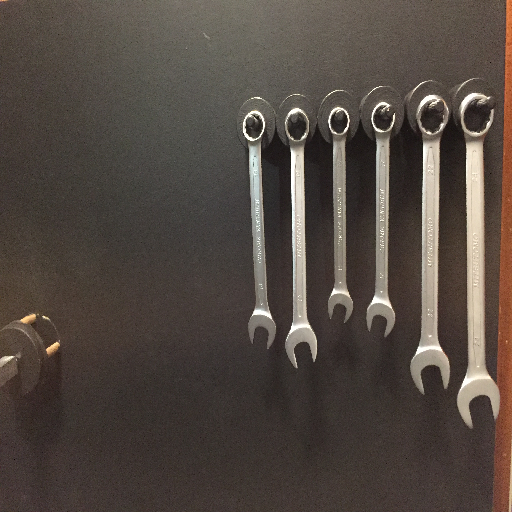bottom: (456, 375, 500, 430), (409, 347, 450, 396), (284, 320, 318, 368), (365, 291, 396, 339), (247, 307, 276, 349), (326, 288, 355, 324)
top: (456, 91, 495, 141), (415, 93, 450, 140), (283, 106, 310, 147), (369, 100, 397, 137), (241, 108, 267, 143), (327, 105, 350, 138)
